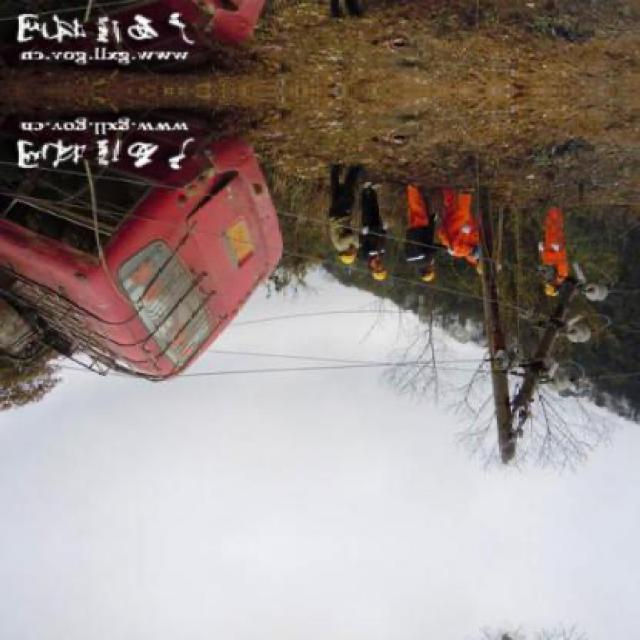con casco: (533, 268, 570, 308), (419, 260, 451, 290), (367, 259, 397, 289), (336, 246, 362, 268)
